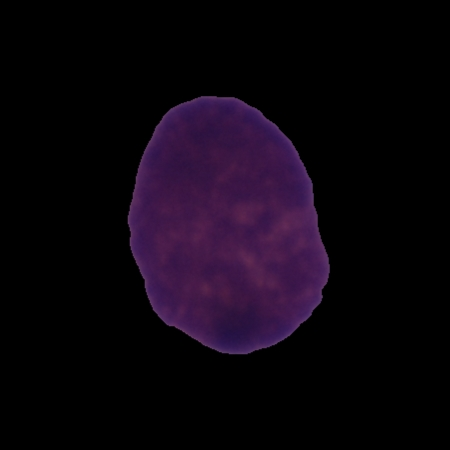ALL: (123, 92, 334, 358)
